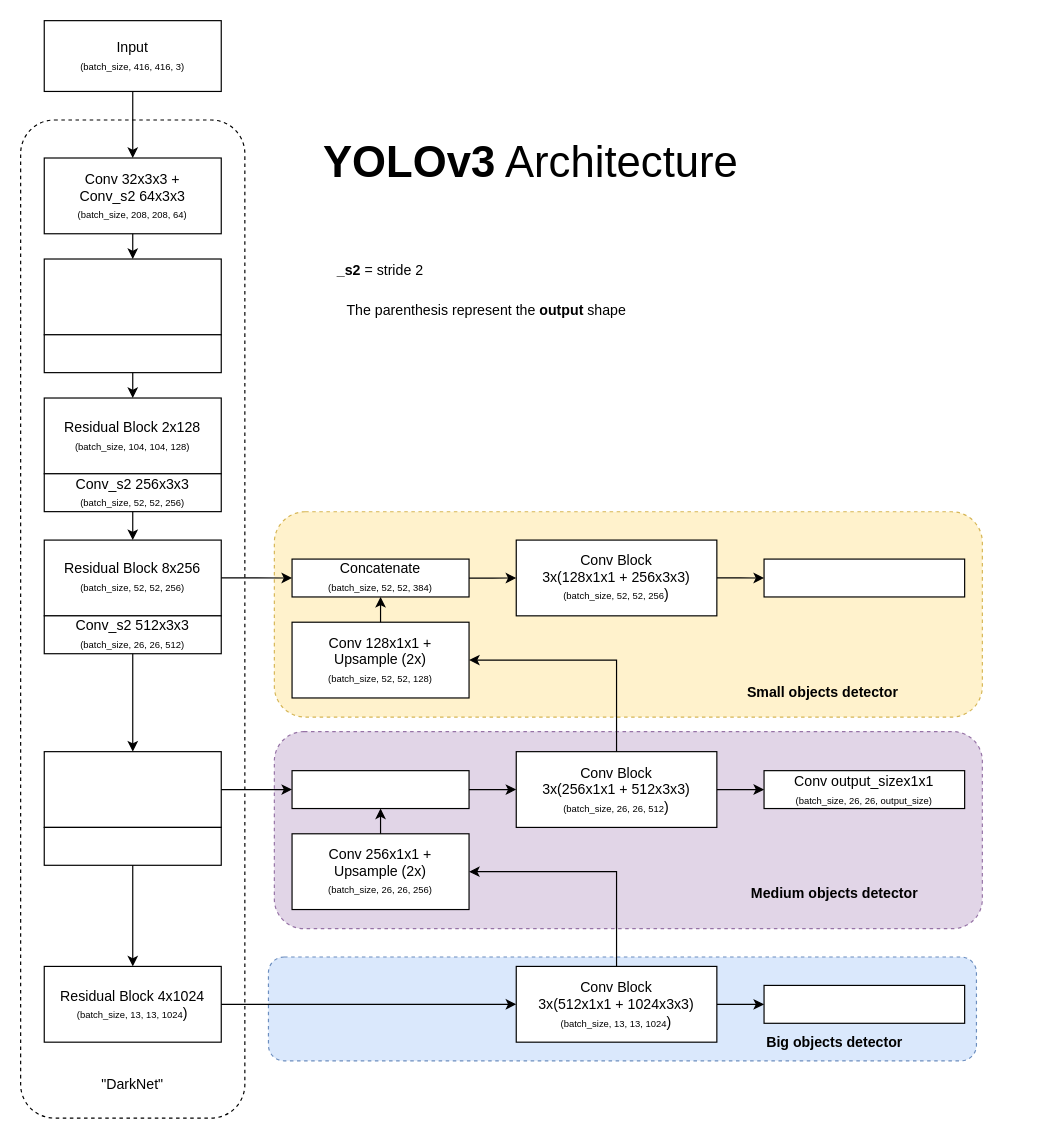
This 1056x1139 diagram has some shape labels left out. The shapes that lost their labels are listed below. From the top down, each one's centre as x and y in pixels, then its label:
At (132,296): "Residual Block 1x64 (batch_size, 208, 208, 64)".
At (132,353): "Conv_s2 128x3x3 (batch_size, 104, 104, 128)".
At (864,577): "Conv output_sizex1x1 (batch_size, 52, 52, output_size)".
At (132,788): "Residual Block 8x512 (batch_size, 26, 26, 512)".
At (380,789): "Concatenate (batch_size, 26, 26, 768)".
At (132,845): "Conv_s2 1024x3x3 (batch_size, 13, 13, 1024)".
At (864,1003): "Conv output_sizex1x1 (batch_size, 13, 13, output_size)".
